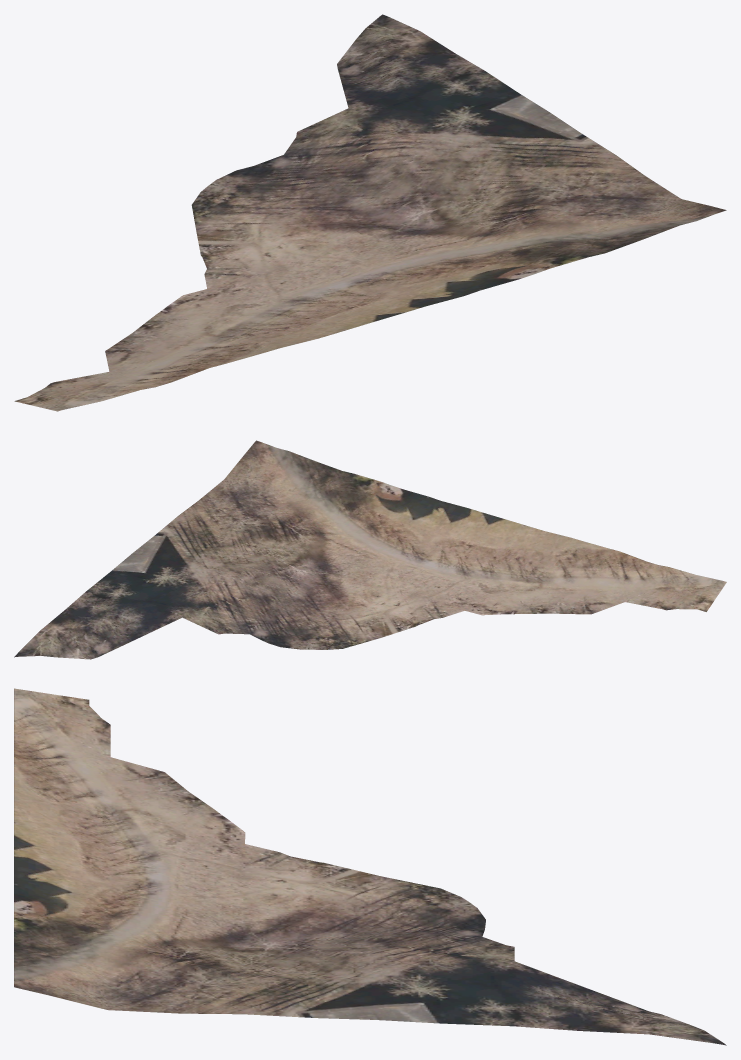
Rendered from CM_Terrain_24485749_6821636.fbx.
3 renders of one model, top to bottom at view 1: azimuth 30°, elevation 25°; view 2: azimuth 150°, elevation 25°; view 3: azimuth 270°, elevation 25°, orthographic. The views are drawn at different scales.
Parts seen in each view (by area): view 1: CM_Terrain_24485749_6821636_LOD0; view 2: CM_Terrain_24485749_6821636_LOD0; view 3: CM_Terrain_24485749_6821636_LOD0.
Boxes of the visible parts, x1=… form: CM_Terrain_24485749_6821636_LOD0: x1=14, y1=14, x2=726, y2=411; CM_Terrain_24485749_6821636_LOD0: x1=14, y1=440, x2=726, y2=659; CM_Terrain_24485749_6821636_LOD0: x1=14, y1=688, x2=726, y2=1045.
Size of what is drawn, in the model's own units: 89.6 by 8.25 by 78.96.
